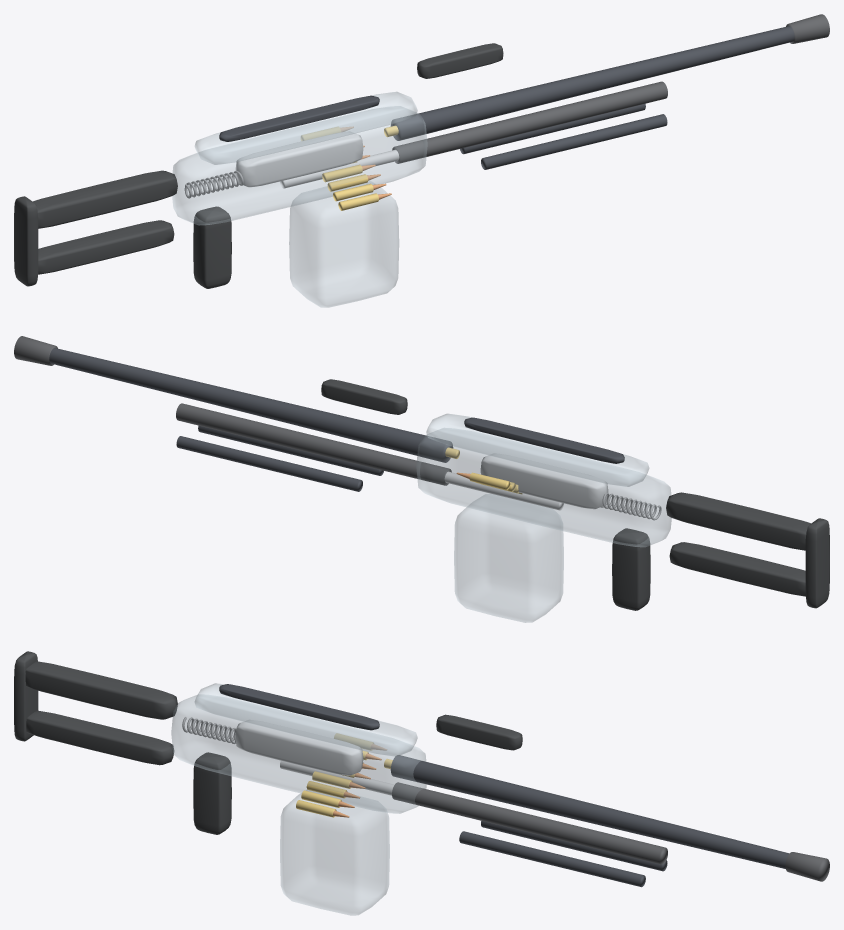
The model's file is km762-glass.glb.
The picture shows the model from 3 angles, top to bottom: view 1: azimuth 30°, elevation 25°; view 2: azimuth 150°, elevation 25°; view 3: azimuth 330°, elevation 25°; orthographic projection.
Parts seen in each view (by area): view 1: receiver_body, ammo_box_100rd, barrel_658mm, top_feed_cover, gas_cylinder, buttstock_top, bolt_carrier_km, buttstock_bot, pistol_grip, bipod_leg_R, top_picatinny, buttpad (+5 smaller); view 2: receiver_body, ammo_box_100rd, barrel_658mm, top_feed_cover, gas_cylinder, buttstock_top, bolt_carrier_km, buttstock_bot, pistol_grip, bipod_leg_L, top_picatinny, buttpad (+5 smaller); view 3: receiver_body, ammo_box_100rd, barrel_658mm, top_feed_cover, gas_cylinder, buttstock_top, bolt_carrier_km, buttstock_bot, pistol_grip, bipod_leg_R, top_picatinny, carry_handle (+5 smaller).
Boxes of the visible parts, <box> form: receiver_body: <box>172,106,427,225</box>; ammo_box_100rd: <box>289,180,399,307</box>; barrel_658mm: <box>390,26,794,140</box>; top_feed_cover: <box>194,91,417,164</box>; gas_cylinder: <box>392,81,667,163</box>; buttstock_top: <box>33,170,177,228</box>; bolt_carrier_km: <box>235,131,363,187</box>; buttstock_bot: <box>38,220,174,274</box>; pistol_grip: <box>193,206,231,288</box>; bipod_leg_R: <box>481,114,667,169</box>; top_picatinny: <box>219,95,379,141</box>; buttpad: <box>14,196,38,286</box>; receiver_body: <box>416,428,671,547</box>; ammo_box_100rd: <box>454,494,563,622</box>; barrel_658mm: <box>49,348,453,462</box>; top_feed_cover: <box>426,413,649,486</box>; gas_cylinder: <box>176,403,451,485</box>; buttstock_top: <box>666,492,810,550</box>; bolt_carrier_km: <box>480,453,608,509</box>; buttstock_bot: <box>669,542,805,596</box>; pistol_grip: <box>612,528,650,610</box>; bipod_leg_L: <box>176,436,362,491</box>; top_picatinny: <box>464,417,624,463</box>; buttpad: <box>805,518,829,608</box>; receiver_body: <box>171,694,426,813</box>; ammo_box_100rd: <box>280,790,389,915</box>; barrel_658mm: <box>390,755,789,868</box>; top_feed_cover: <box>194,683,417,756</box>; gas_cylinder: <box>392,782,667,864</box>; buttstock_top: <box>25,661,177,719</box>; bolt_carrier_km: <box>235,720,363,775</box>; buttstock_bot: <box>26,710,174,765</box>; pistol_grip: <box>193,752,231,834</box>; bipod_leg_R: <box>459,831,645,887</box>; top_picatinny: <box>219,684,379,730</box>; carry_handle: <box>436,714,522,750</box>.
Size of the model in its own units: 1.2 by 0.2835 by 0.11.
